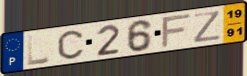2: (95, 23, 121, 57)
6: (126, 18, 155, 53)
C: (56, 29, 84, 61)
F: (160, 12, 193, 50)
L: (26, 33, 52, 67)
Z: (192, 9, 223, 44)
